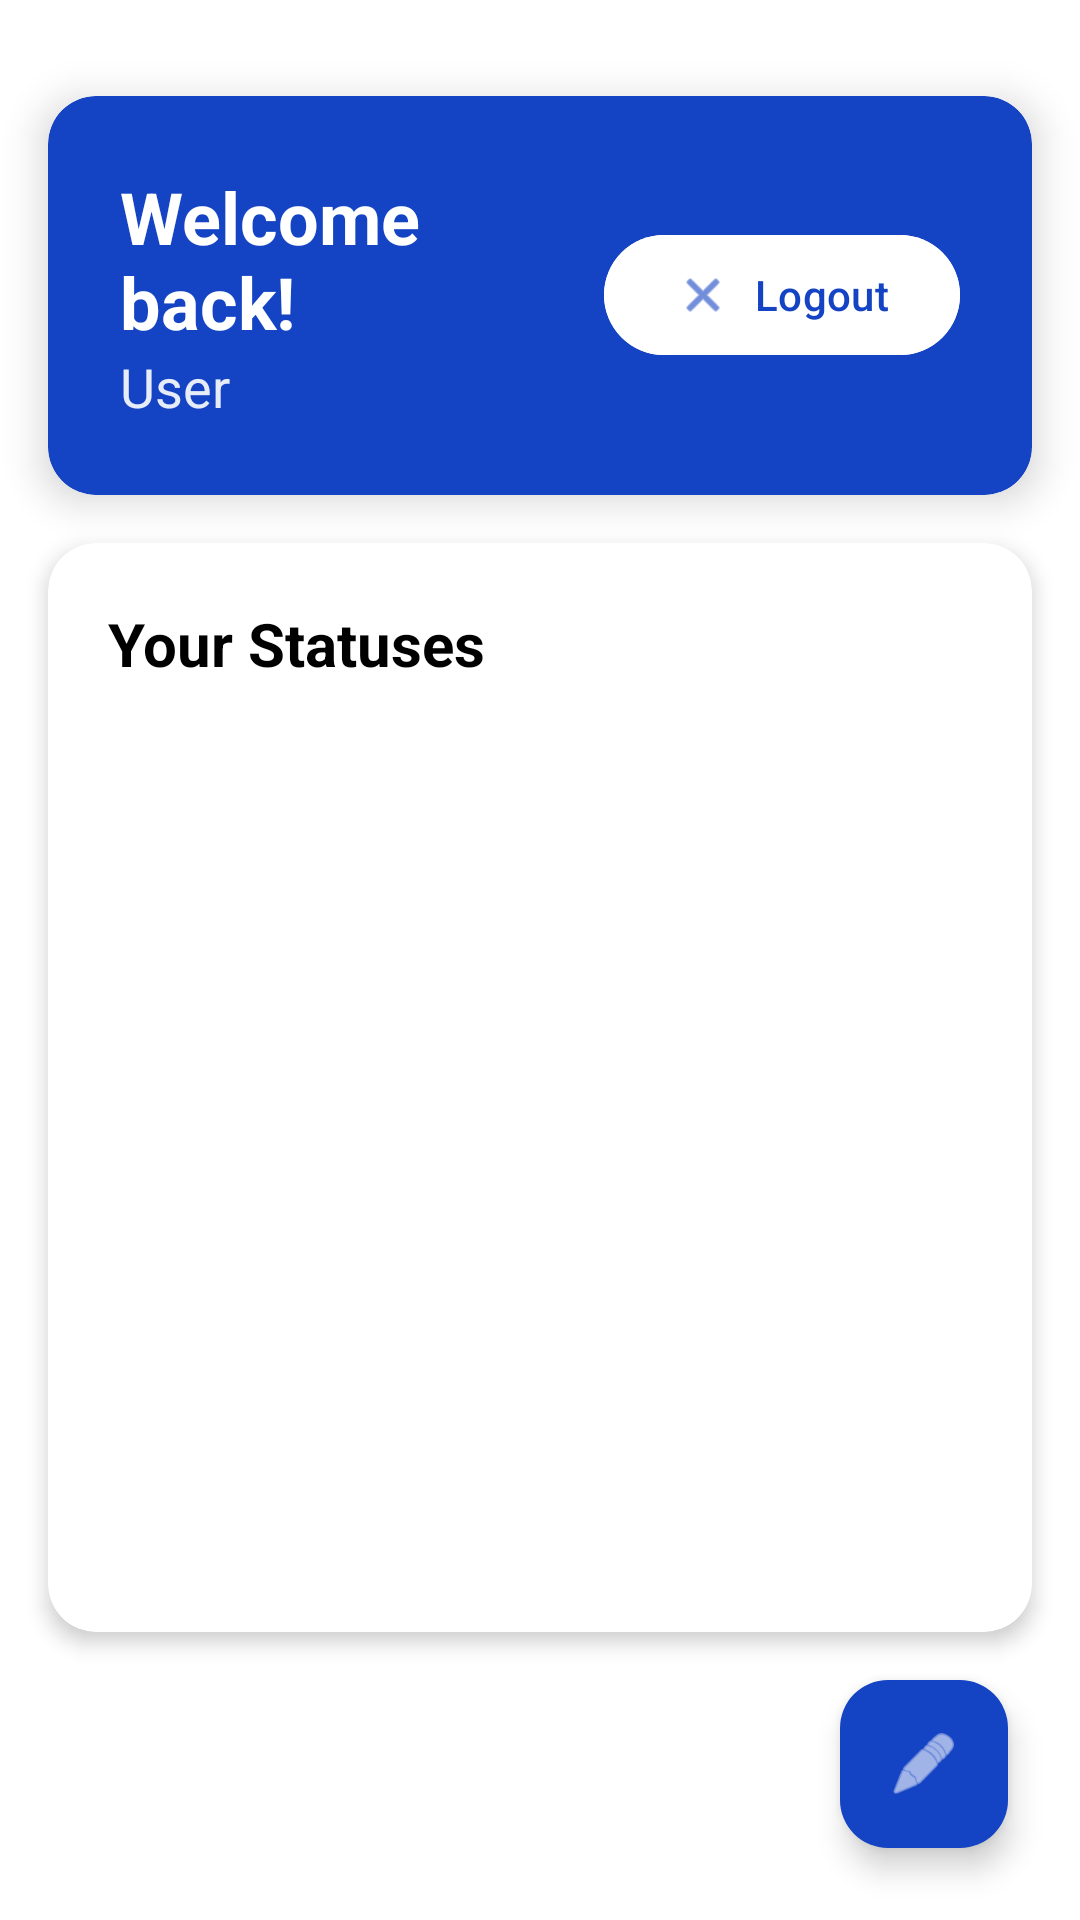

Where to tap for icons on this 1080px x 1920px app screen, as [x,y]:
edit: [924,1764]
